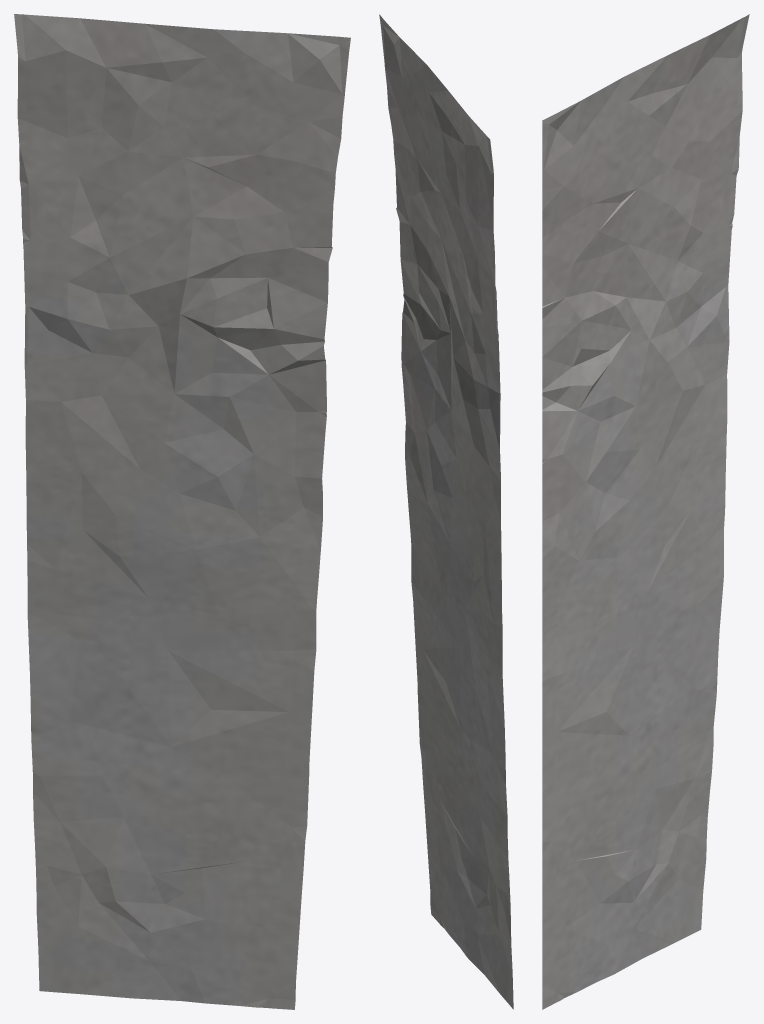
The picture shows the model from 3 angles, left to right: view 1: azimuth 30°, elevation 25°; view 2: azimuth 150°, elevation 25°; view 3: azimuth 270°, elevation 25°; orthographic projection. The views are drawn at different scales.
Size of the model in its own units: 0.2087 by 0.8374 by 0.1719.
Materials: 1 (1 with a texture image).
